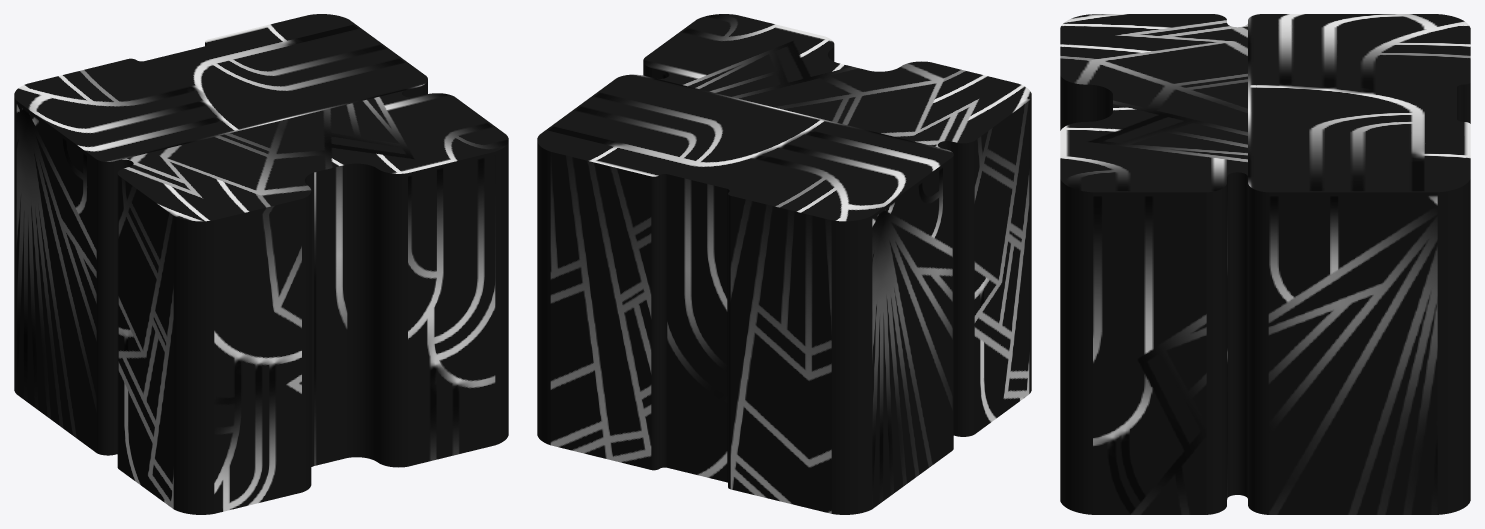
Rendered from Maison3.glb.
The picture shows the model from 3 angles, left to right: view 1: azimuth 30°, elevation 25°; view 2: azimuth 150°, elevation 25°; view 3: azimuth 270°, elevation 25°; orthographic projection. The views are drawn at different scales.
Parts seen in each view (by area): view 1: BAT3; view 2: BAT3; view 3: BAT3.
Boxes of the visible parts, x1,y1,x2,y2 form: BAT3: (14, 14, 508, 514); BAT3: (537, 14, 1031, 514); BAT3: (1060, 14, 1470, 514).
Size of the model in its own units: 0.4325 by 0.3645 by 0.4206.
Materials: 2 (1 with a texture image).
